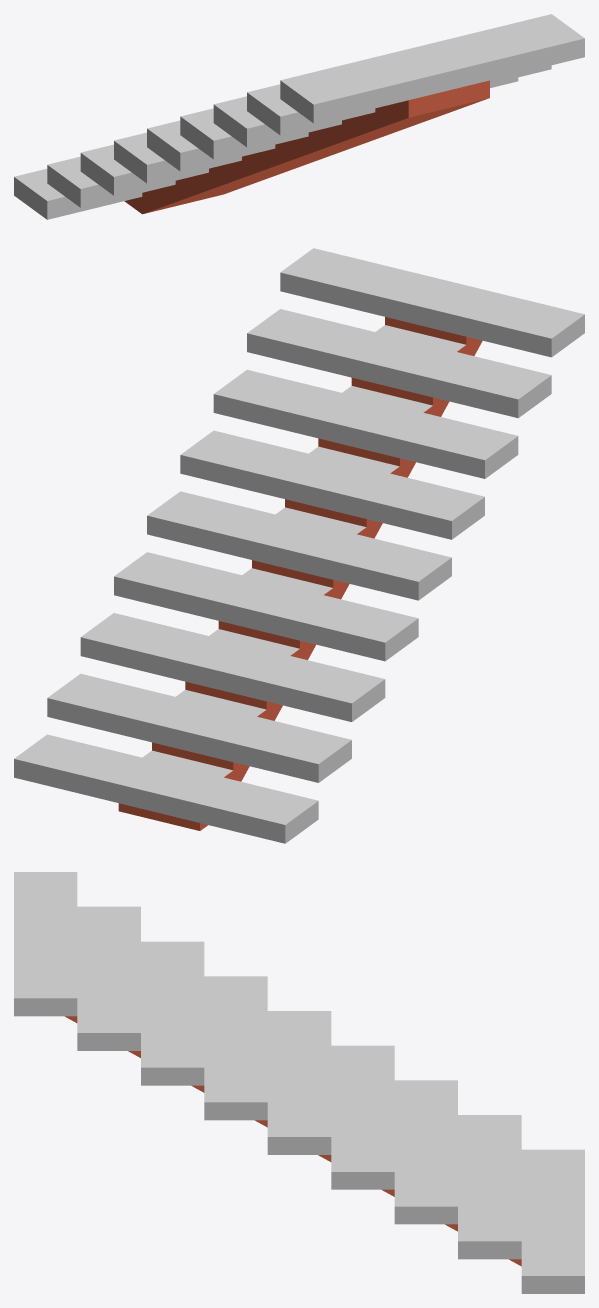
Rendered from stairsLong.fbx.
3 renders of one model, top to bottom at view 1: azimuth 30°, elevation 25°; view 2: azimuth 150°, elevation 25°; view 3: azimuth 270°, elevation 25°, orthographic. The views are drawn at different scales.
Visible parts, largest first — view 1: stairsLong; view 2: stairsLong; view 3: stairsLong.
Boxes of the visible parts, x1=… form: stairsLong: x1=14, y1=14, x2=584, y2=219; stairsLong: x1=14, y1=248, x2=584, y2=843; stairsLong: x1=14, y1=872, x2=584, y2=1293.
Bounding box in the file's own units: 4.83 × 5.58 × 9.24.
